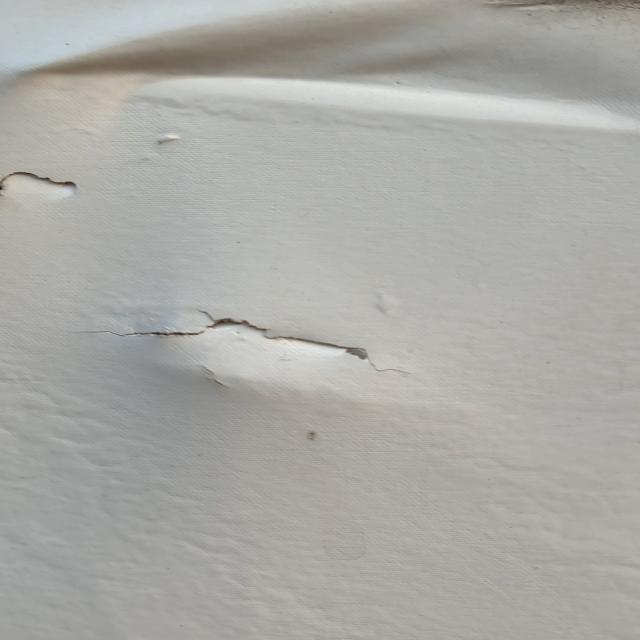Dents or Deformation: (38, 17, 640, 129)
Scratches: (118, 308, 532, 402), (1, 168, 131, 220)
